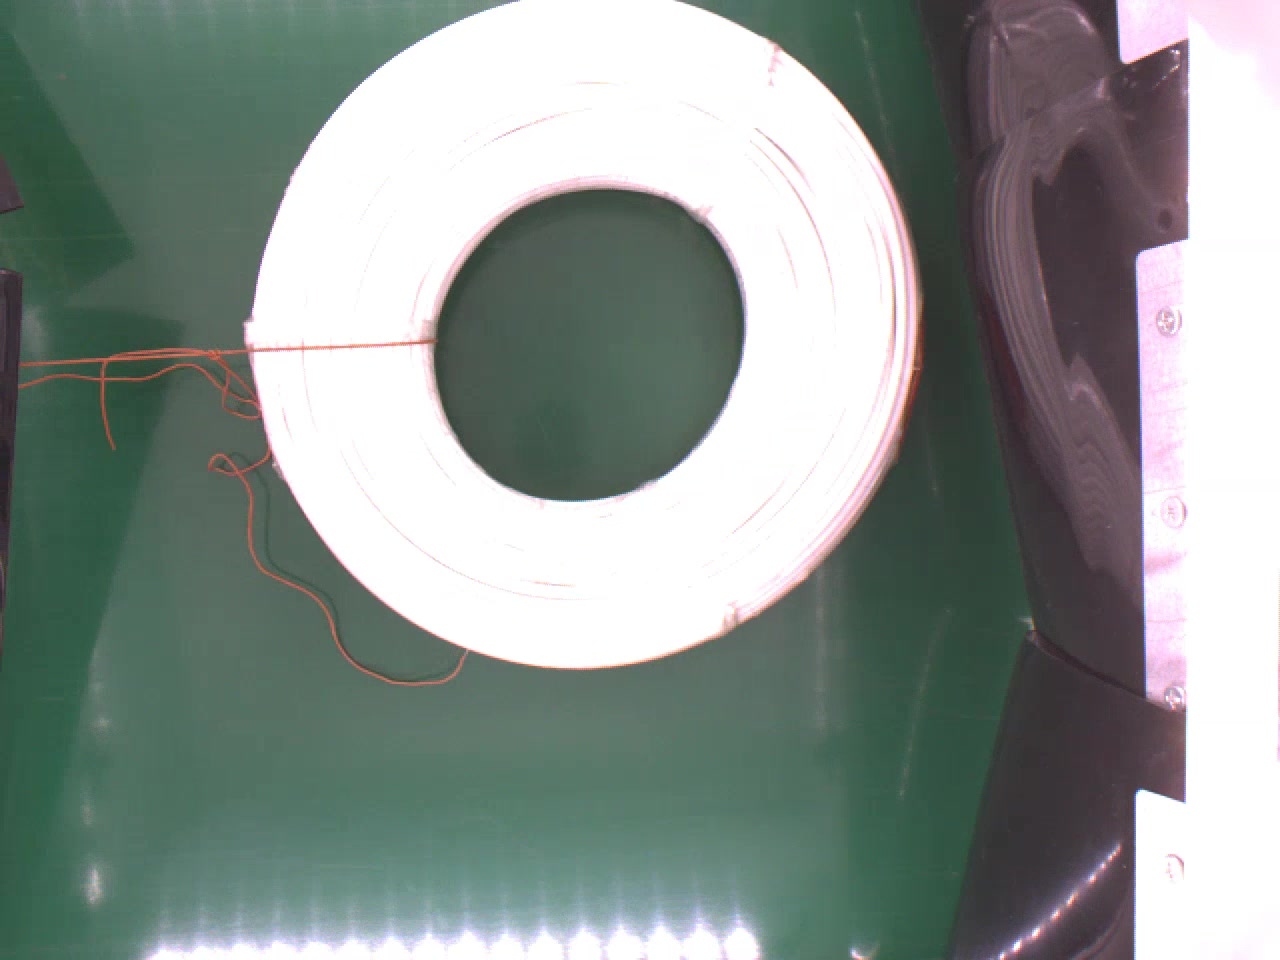white: (235, 0, 926, 675)
